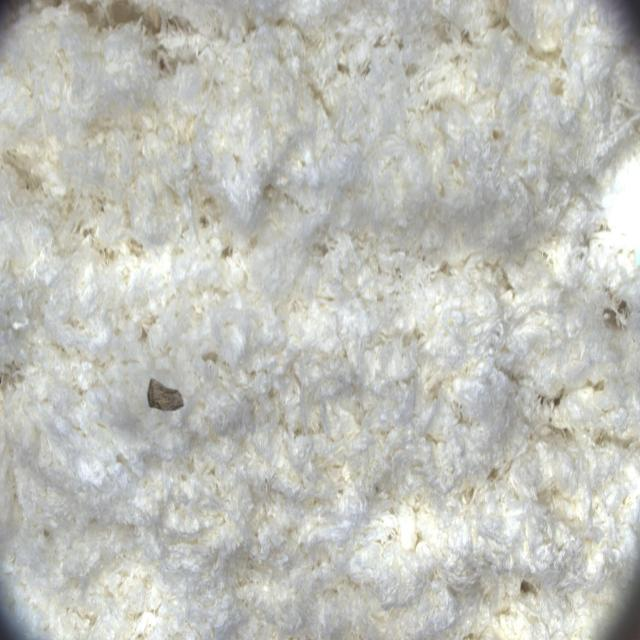dust: (122, 334, 206, 447)
